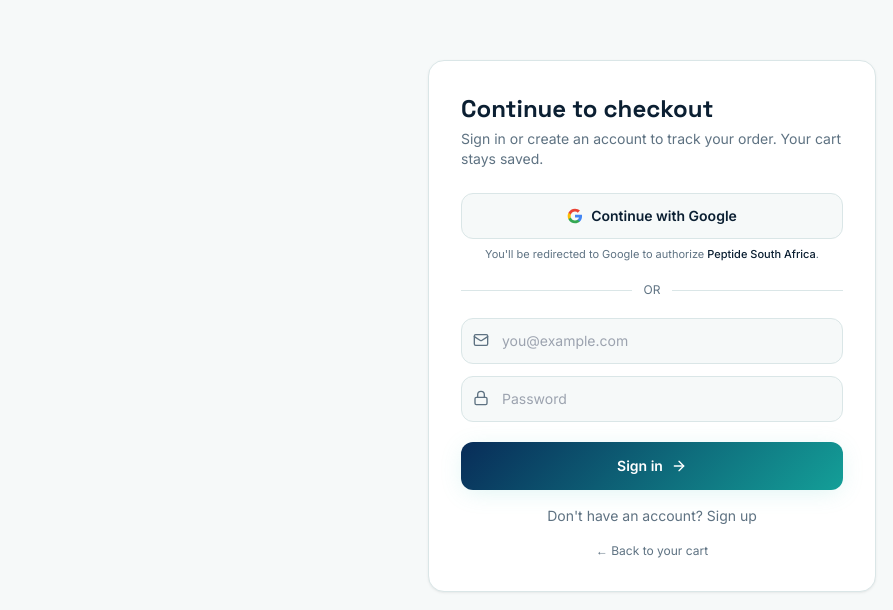
it: returns legacy next=checkout sign-ins to checkout
Type "test@example.invalid" into the field with placeholder "you@example.com" at (652, 341), box x1=461 y1=318 x2=843 y2=364
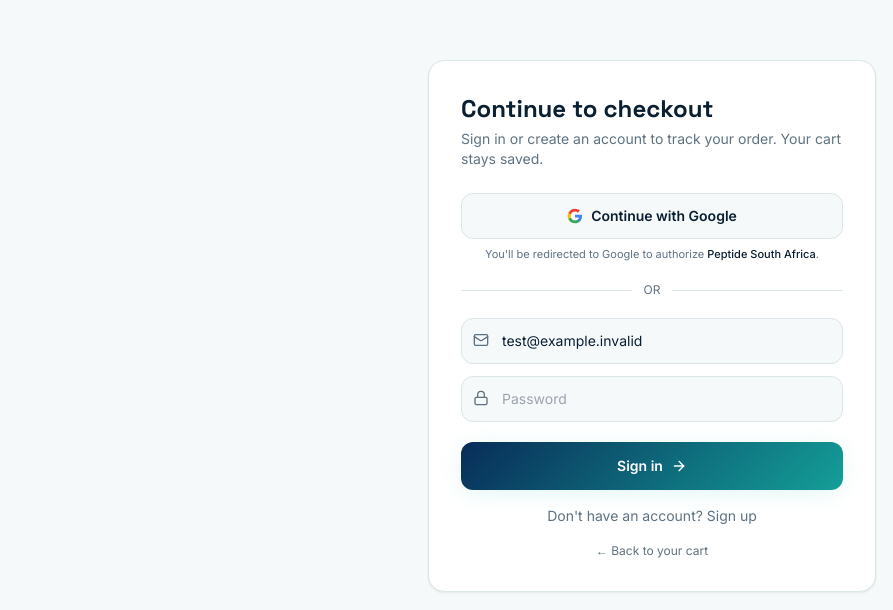
Type "fixture-only" into the password field with placeholder "Password" at (652, 399), box x1=461 y1=376 x2=843 y2=422
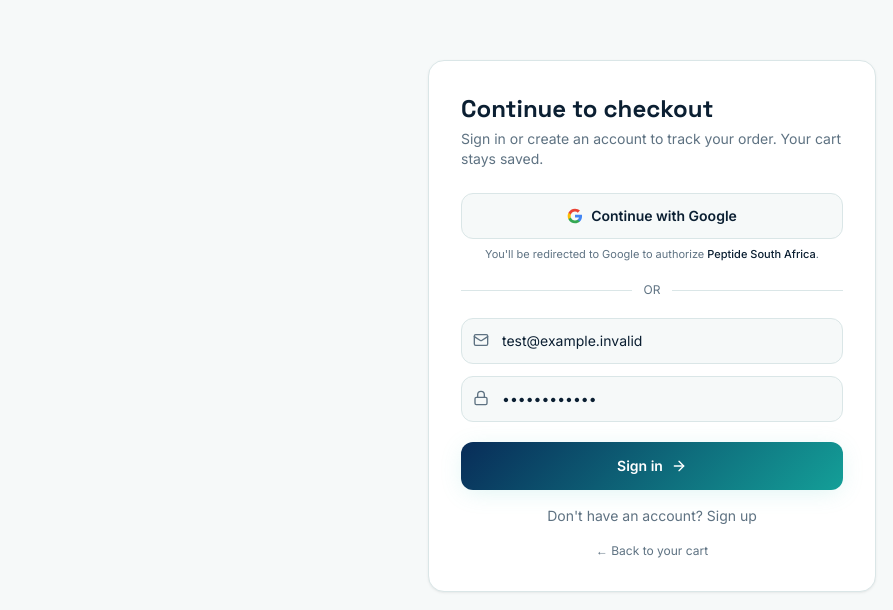
Click the button "Sign in" at (652, 466), box x1=461 y1=442 x2=843 y2=490
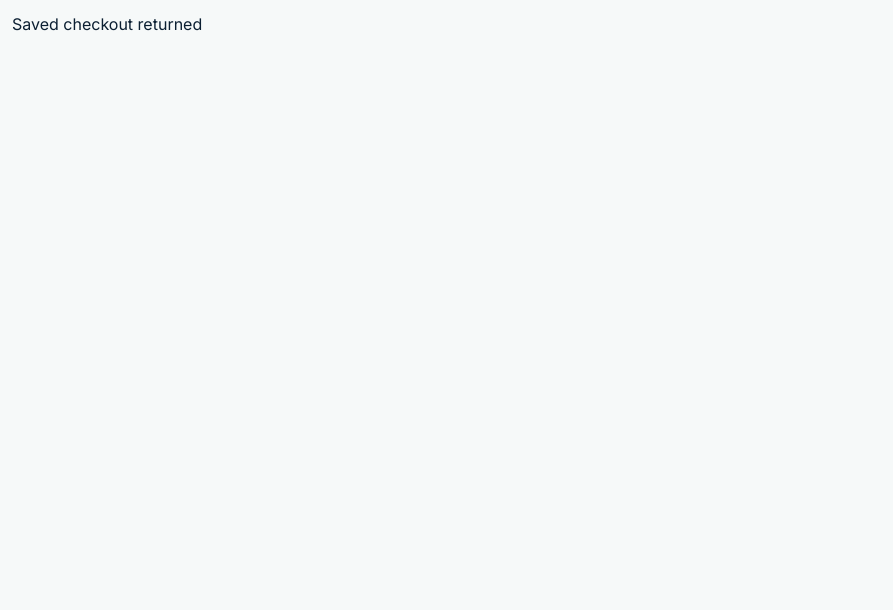
Result: the text "Saved checkout returned" is shown at x1=12 y1=14 x2=202 y2=34
